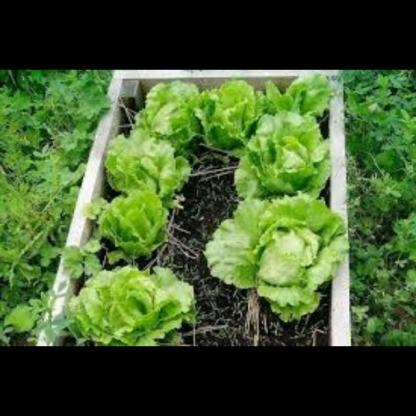salad: (79, 78, 337, 345)
